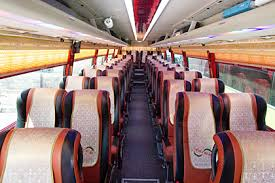seat: (161, 97, 184, 163)
